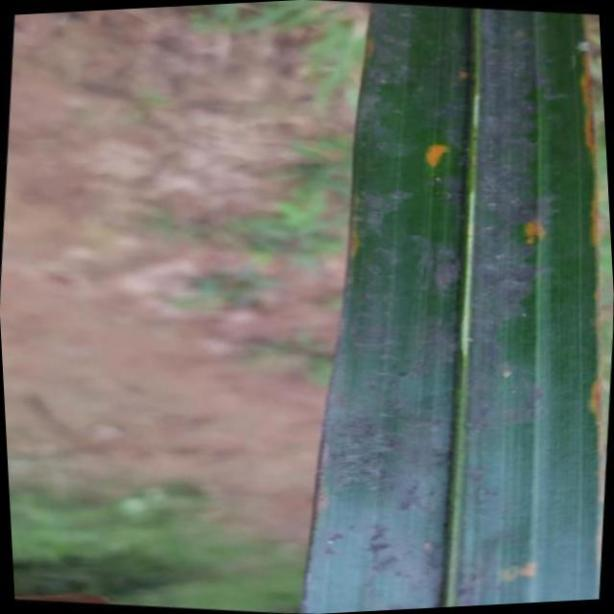Kalium: (302, 8, 606, 604)
